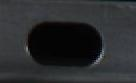holes: (25, 19, 107, 68)
